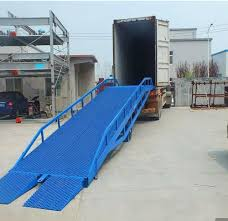Yard Ramp: (1, 78, 154, 210)
